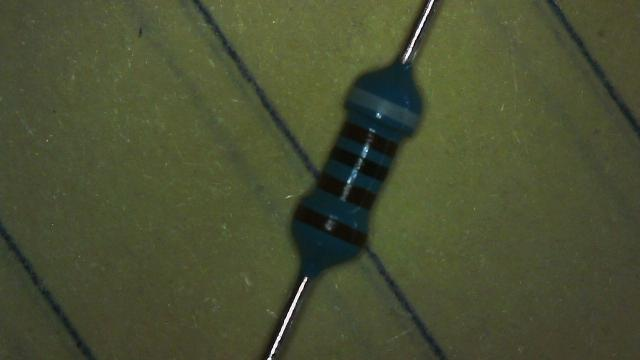black: (330, 146, 388, 180)
brown: (294, 206, 367, 246), (340, 122, 398, 157), (312, 181, 376, 202)
resistor: (284, 50, 429, 281)
white: (350, 87, 417, 121)
